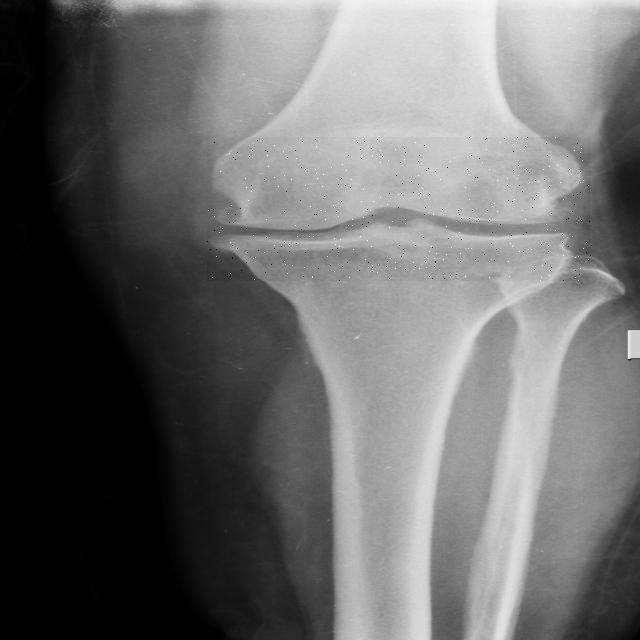normal: (208, 137, 592, 281)
